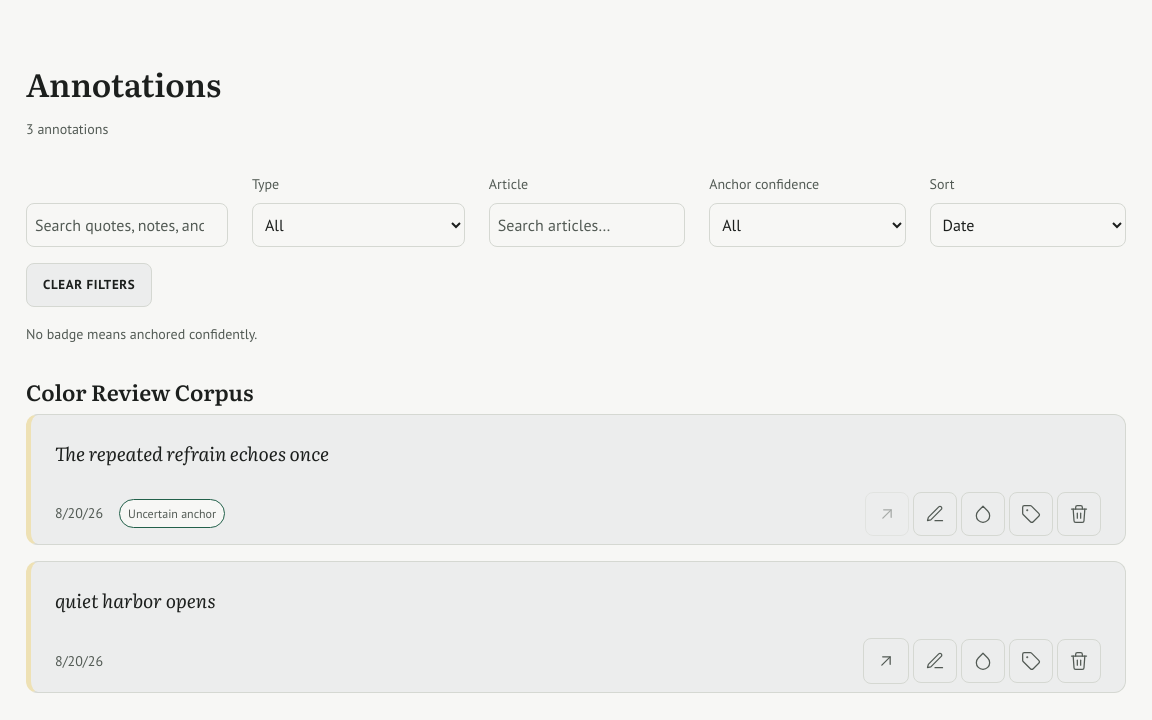
it: ReviewView highlight colors (issue #119) › Done closes the dialog (dismiss only — picks already committed)
Click the button named "Change color, currently Neutral: quiet harbor opens" at (983, 661), box top-left (961, 639), bottom-right (1005, 683)
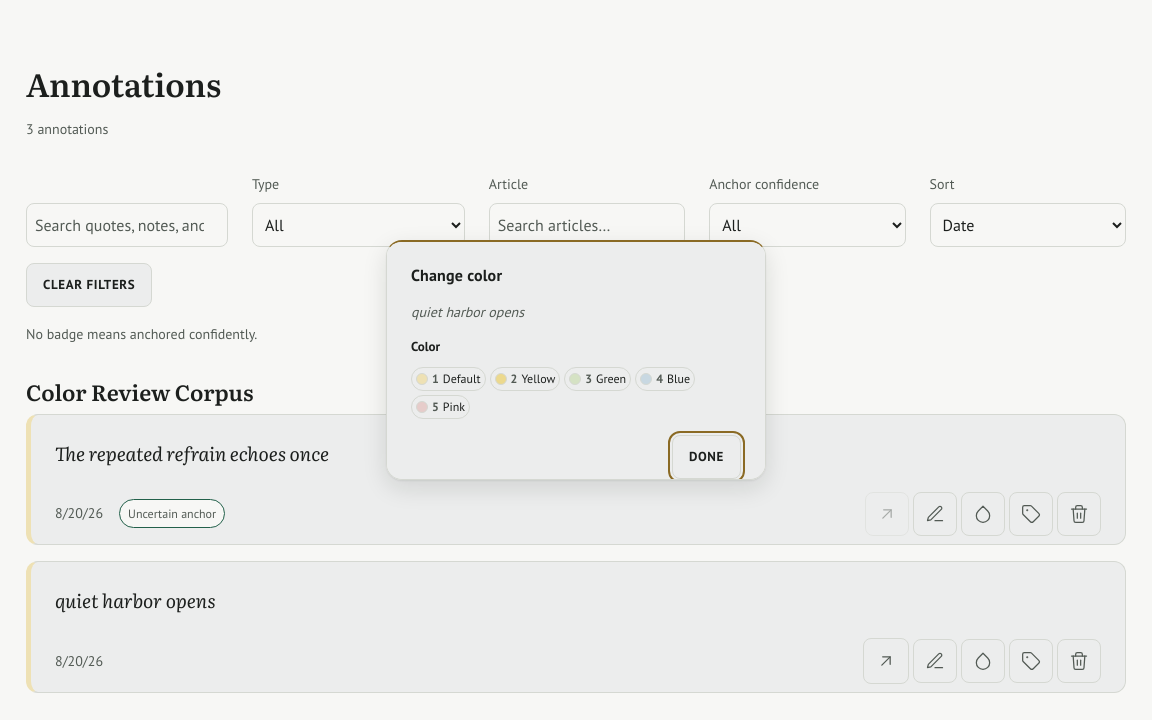
Click the button "Done" at (706, 457), box top-left (672, 435), bottom-right (741, 479)
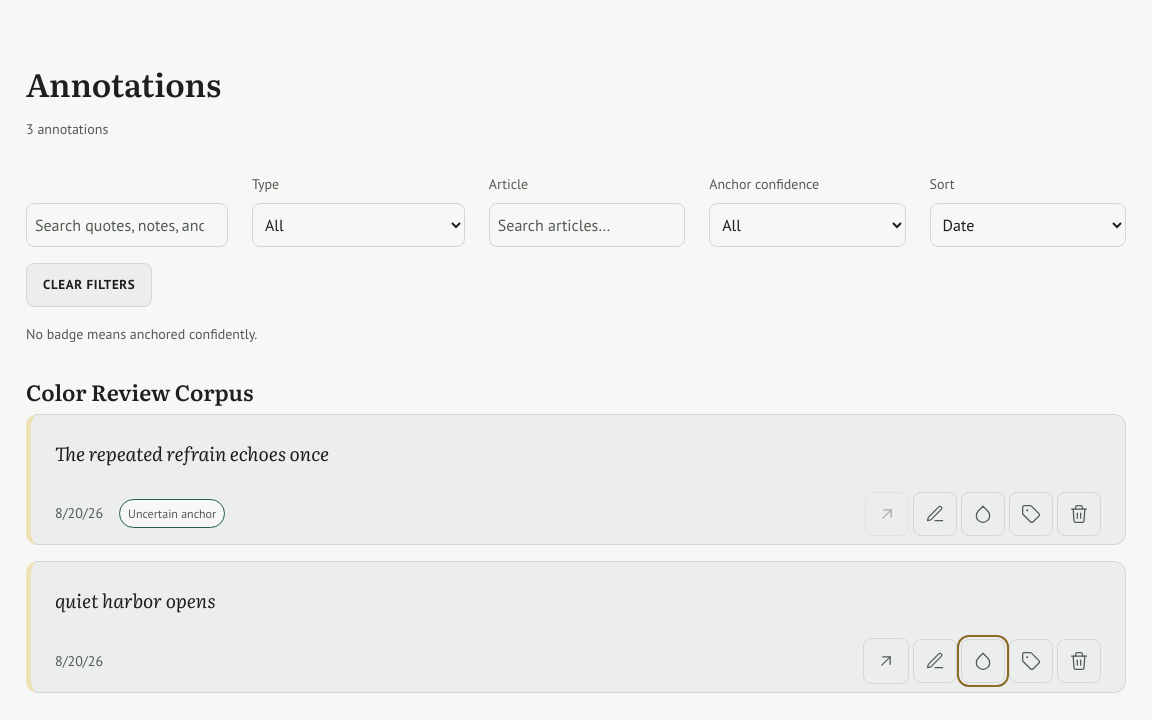
Expected: the heading "Change color" is gone
